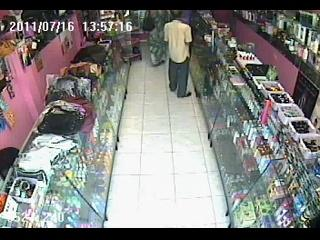Normal: (164, 11, 194, 98)
